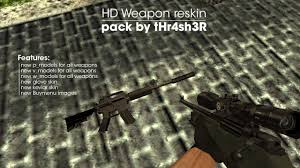gun: (177, 88, 298, 167), (65, 70, 195, 133)
